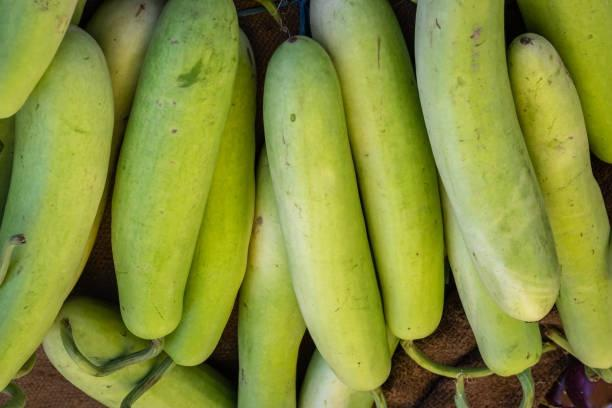bottle gourd: (0, 0, 611, 407), (412, 0, 560, 323), (307, 0, 445, 341), (261, 33, 392, 392), (109, 0, 240, 341), (0, 22, 115, 407), (506, 30, 611, 372), (512, 0, 611, 164)
